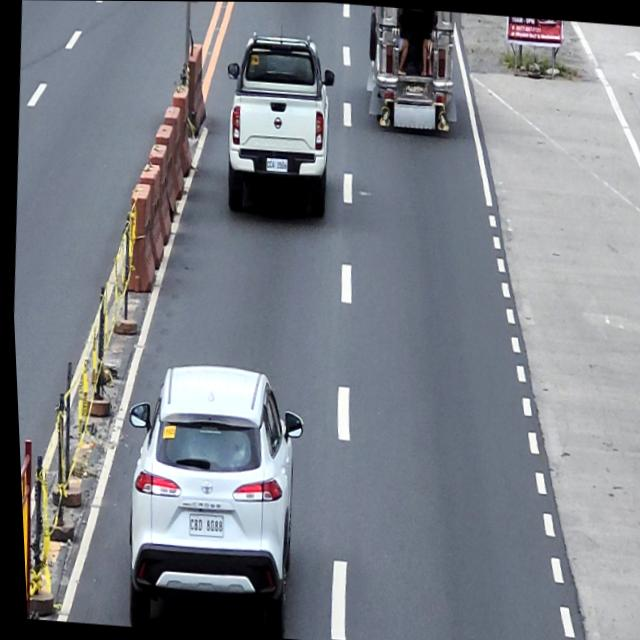Car: (108, 357, 310, 635), (214, 27, 341, 219)
Jeep: (360, 5, 464, 134)
License-Plate: (181, 510, 220, 537), (262, 155, 288, 174), (403, 80, 425, 95)
